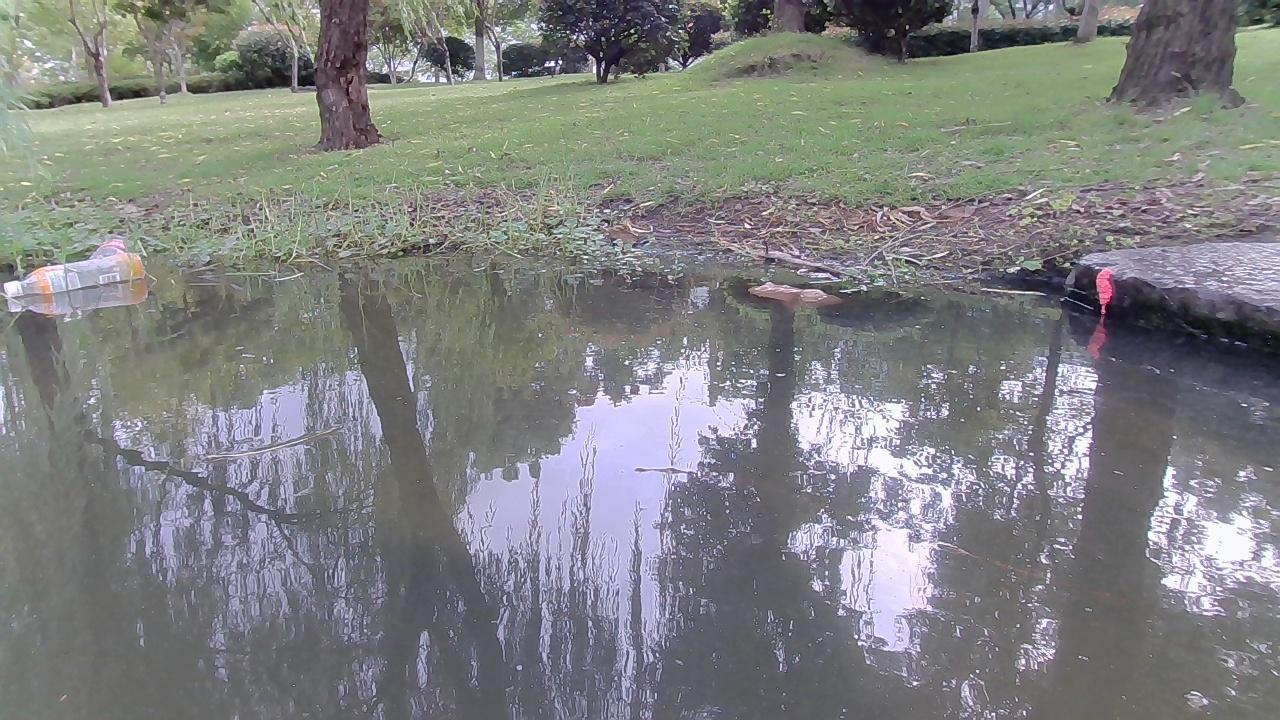bottle: (5, 262, 139, 300), (91, 234, 126, 262)
